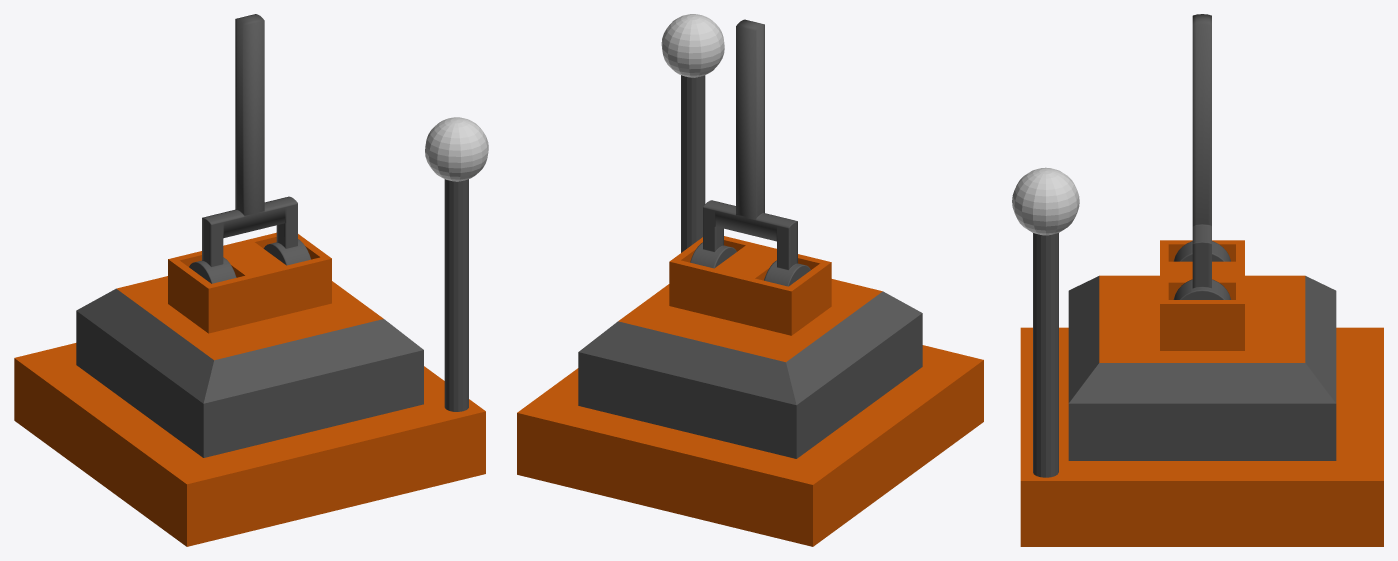
Rendered from Switch.fbx.
The picture shows the model from 3 angles, left to right: view 1: azimuth 30°, elevation 25°; view 2: azimuth 150°, elevation 25°; view 3: azimuth 270°, elevation 25°; orthographic projection. The views are drawn at different scales.
Visible parts, largest first — view 1: SwitchBase, Switch, SwitchLight; view 2: SwitchBase, Switch, SwitchLight; view 3: SwitchBase, SwitchLight, Switch.
Part boxes in pixels (x1=…): SwitchBase: x1=14, y1=232, x2=485, y2=546; Switch: x1=189, y1=14, x2=310, y2=283; SwitchLight: x1=425, y1=117, x2=488, y2=411; SwitchBase: x1=517, y1=236, x2=983, y2=546; Switch: x1=690, y1=19, x2=810, y2=286; SwitchLight: x1=661, y1=14, x2=724, y2=252; SwitchBase: x1=1020, y1=240, x2=1383, y2=546; SwitchLight: x1=1012, y1=167, x2=1079, y2=477; Switch: x1=1173, y1=14, x2=1230, y2=299.
Bounding box in the file's own units: 104 × 137 × 102.
